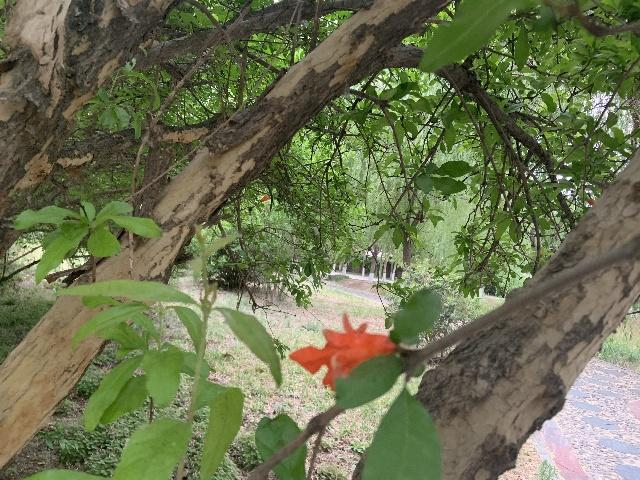flower: (288, 313, 396, 390), (260, 194, 269, 202)
